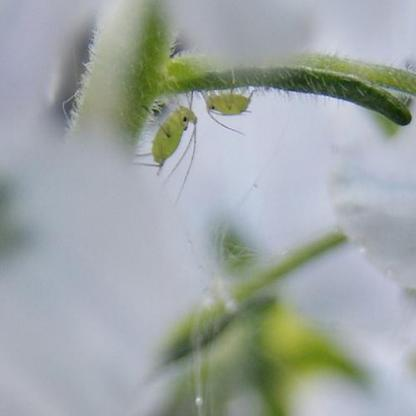aphid: (140, 82, 210, 190), (195, 74, 270, 126)
